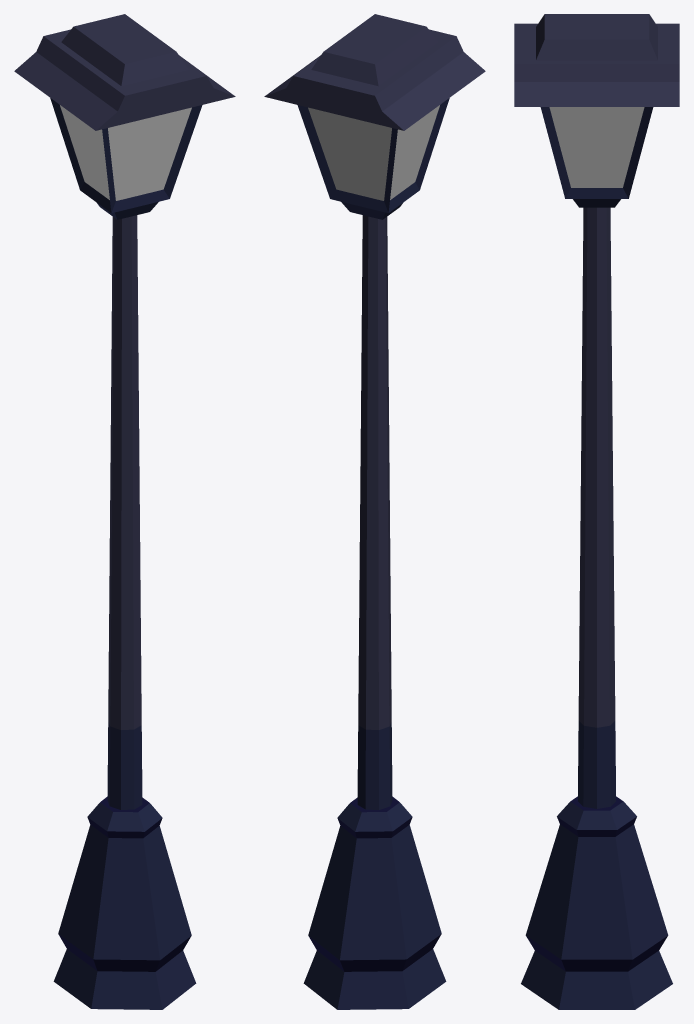
Rendered from LampPost.fbx.
3 renders of one model, left to right at view 1: azimuth 30°, elevation 25°; view 2: azimuth 150°, elevation 25°; view 3: azimuth 270°, elevation 25°, orthographic.
Parts seen in each view (by area): view 1: PosteCenario; view 2: PosteCenario; view 3: PosteCenario.
Boxes of the visible parts, x1,y1,x2,y2 form: PosteCenario: (14, 14, 235, 1009); PosteCenario: (264, 14, 485, 1009); PosteCenario: (514, 14, 679, 1009).
Bounding box in the file's own units: 57.55 × 370 × 58.
